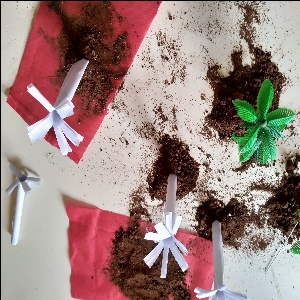plant: (231, 75, 296, 161)
weed: (18, 53, 86, 161), (198, 214, 275, 300), (135, 162, 187, 272), (3, 163, 45, 245)
